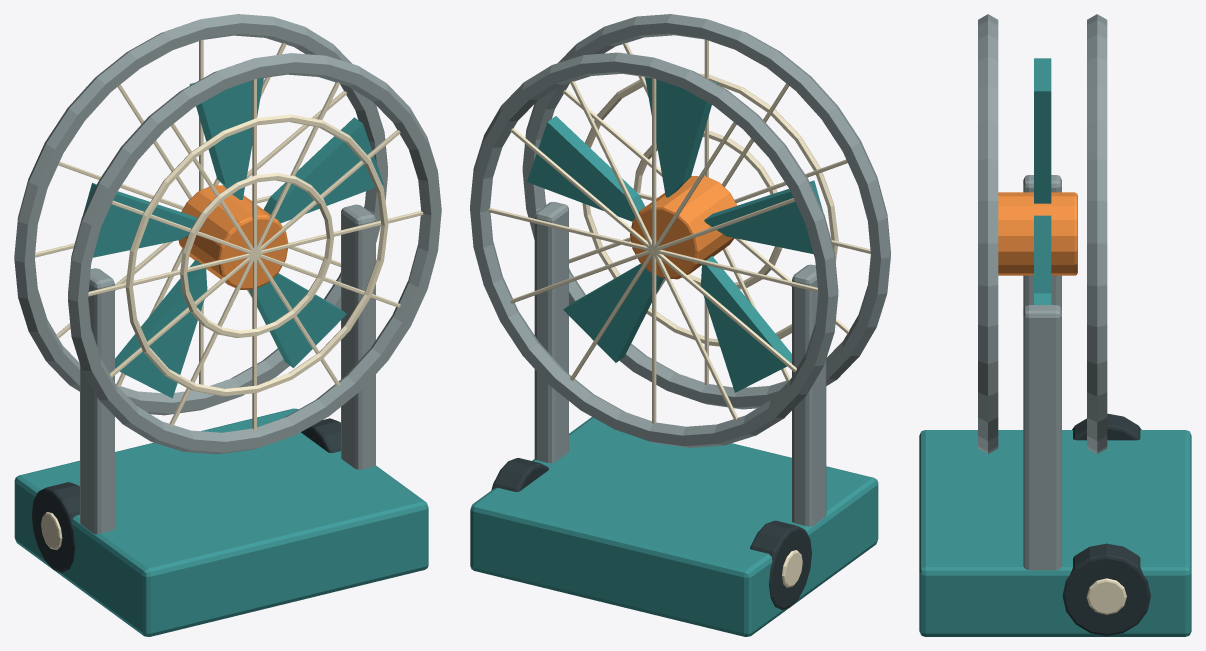
File: S079_large_wind_fan.glb
The picture shows the model from 3 angles, left to right: view 1: azimuth 30°, elevation 25°; view 2: azimuth 150°, elevation 25°; view 3: azimuth 270°, elevation 25°; orthographic projection. The views are drawn at different scales.
Parts seen in each view (by area): view 1: fan_base, fan_outer_guard, fan_outer_guard.001, fan_yoke.001, fan_yoke, fan_guard_ring.001, fan_hub, broad_fan_blade.003, broad_fan_blade, broad_fan_blade.001, broad_fan_blade.004, fan_guard_ring (+16 smaller); view 2: fan_base, fan_outer_guard.001, fan_outer_guard, fan_yoke.001, fan_yoke, fan_hub, broad_fan_blade.003, broad_fan_blade, broad_fan_blade.001, broad_fan_blade.004, broad_fan_blade.002, fan_guard_ring.001 (+16 smaller); view 3: fan_base, fan_yoke.001, fan_outer_guard, fan_outer_guard.001, fan_hub, fan_transport_wheel_tire.001, broad_fan_blade.001, broad_fan_blade, fan_transport_wheel_hub.001, fan_yoke, fan_transport_wheel_tire.
Boxes of the visible parts, <box> form: fan_base: <box>14,408,428,636</box>; fan_outer_guard: <box>68,53,441,454</box>; fan_outer_guard.001: <box>14,14,387,415</box>; fan_yoke.001: <box>341,204,375,469</box>; fan_yoke: <box>80,268,114,534</box>; fan_guard_ring.001: <box>125,114,388,396</box>; fan_hub: <box>178,185,288,289</box>; broad_fan_blade.003: <box>115,259,207,398</box>; broad_fan_blade: <box>263,117,383,223</box>; broad_fan_blade.001: <box>189,78,263,199</box>; broad_fan_blade.004: <box>248,273,346,367</box>; fan_guard_ring: <box>180,173,333,337</box>; fan_base: <box>470,417,878,636</box>; fan_outer_guard.001: <box>470,52,838,447</box>; fan_outer_guard: <box>522,14,890,409</box>; fan_yoke.001: <box>534,202,568,463</box>; fan_yoke: <box>792,264,826,526</box>; fan_hub: <box>630,176,737,279</box>; broad_fan_blade.003: <box>700,256,791,392</box>; broad_fan_blade: <box>527,116,645,221</box>; broad_fan_blade.001: <box>645,77,718,197</box>; broad_fan_blade.004: <box>563,263,663,362</box>; broad_fan_blade.002: <box>704,180,823,254</box>; fan_guard_ring.001: <box>582,73,838,346</box>; fan_base: <box>919,430,1191,636</box>; fan_yoke.001: <box>1023,305,1061,570</box>; fan_outer_guard: <box>978,14,998,453</box>; fan_outer_guard.001: <box>1087,14,1107,453</box>; fan_hub: <box>998,192,1077,275</box>; fan_transport_wheel_tire.001: <box>1062,543,1150,635</box>; broad_fan_blade.001: <box>1034,58,1051,203</box>; broad_fan_blade: <box>1034,215,1051,293</box>; fan_transport_wheel_hub.001: <box>1086,578,1126,614</box>; fan_yoke: <box>1023,175,1061,309</box>; fan_transport_wheel_tire: <box>1072,413,1141,440</box>.
Bounding box in the file's own units: 1.37 × 1.84 × 0.85.
